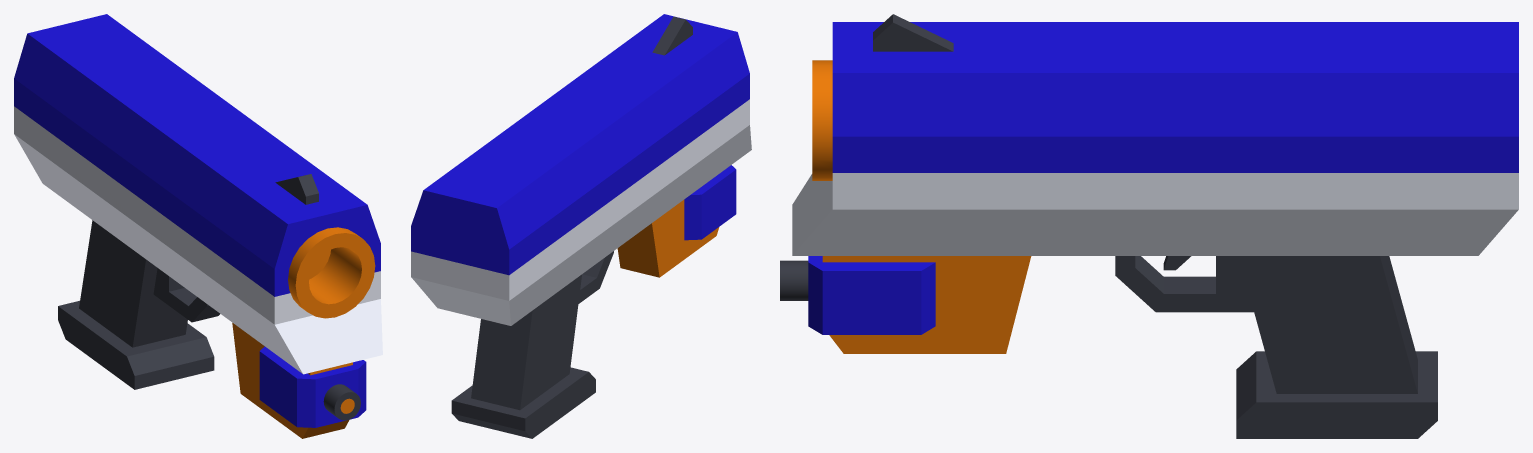
The model's file is Blaster 1.fbx.
The picture shows the model from 3 angles, left to right: view 1: azimuth 30°, elevation 25°; view 2: azimuth 150°, elevation 25°; view 3: azimuth 270°, elevation 25°; orthographic projection. The views are drawn at different scales.
Visible parts, largest first — view 1: mediumBlaster_handle, mediumBlaster_barrelShort, attachment_laser, mediumBlaster_back, detailTargetSightFront; view 2: mediumBlaster_handle, mediumBlaster_back, mediumBlaster_barrelShort, attachment_laser, detailTargetSightFront; view 3: mediumBlaster_handle, mediumBlaster_barrelShort, attachment_laser, mediumBlaster_back, detailTargetSightFront.
Part boxes in pixels (x1,y1,x2,y2): mediumBlaster_handle: (44,36,290,389); mediumBlaster_barrelShort: (198,148,382,374); attachment_laser: (232,323,366,438); mediumBlaster_back: (14,14,137,194); detailTargetSightFront: (275,174,318,204); mediumBlaster_handle: (451,66,679,438); mediumBlaster_back: (411,169,537,325); mediumBlaster_barrelShort: (593,14,751,211); attachment_laser: (617,165,736,277); detailTargetSightFront: (652,16,692,55); mediumBlaster_handle: (1034,22,1437,438); mediumBlaster_barrelShort: (792,22,1034,255); attachment_laser: (780,256,1031,353); mediumBlaster_back: (1438,22,1518,255); detailTargetSightFront: (873,14,953,51).
Size of the model in its own units: 4 by 10.8 by 18.3.
